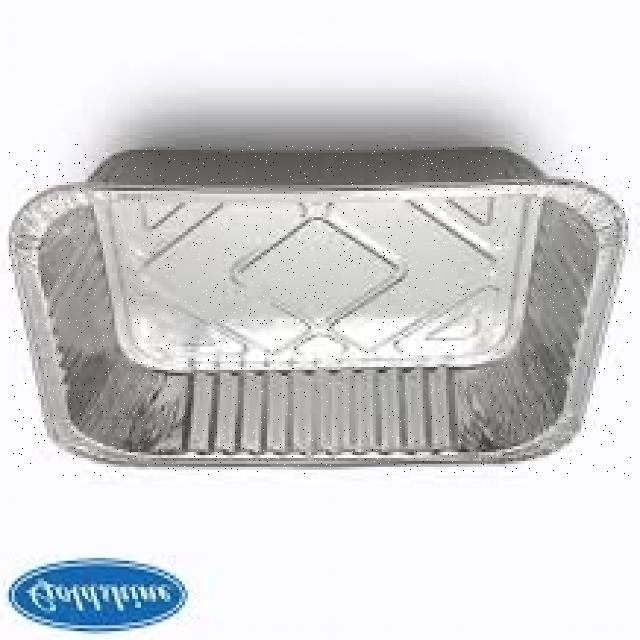metal: (9, 144, 631, 475)
